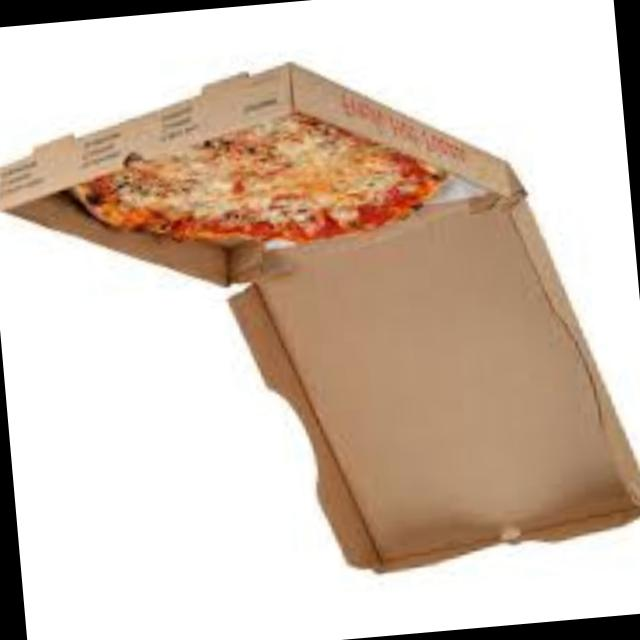cardboard paper: (0, 70, 640, 576)
